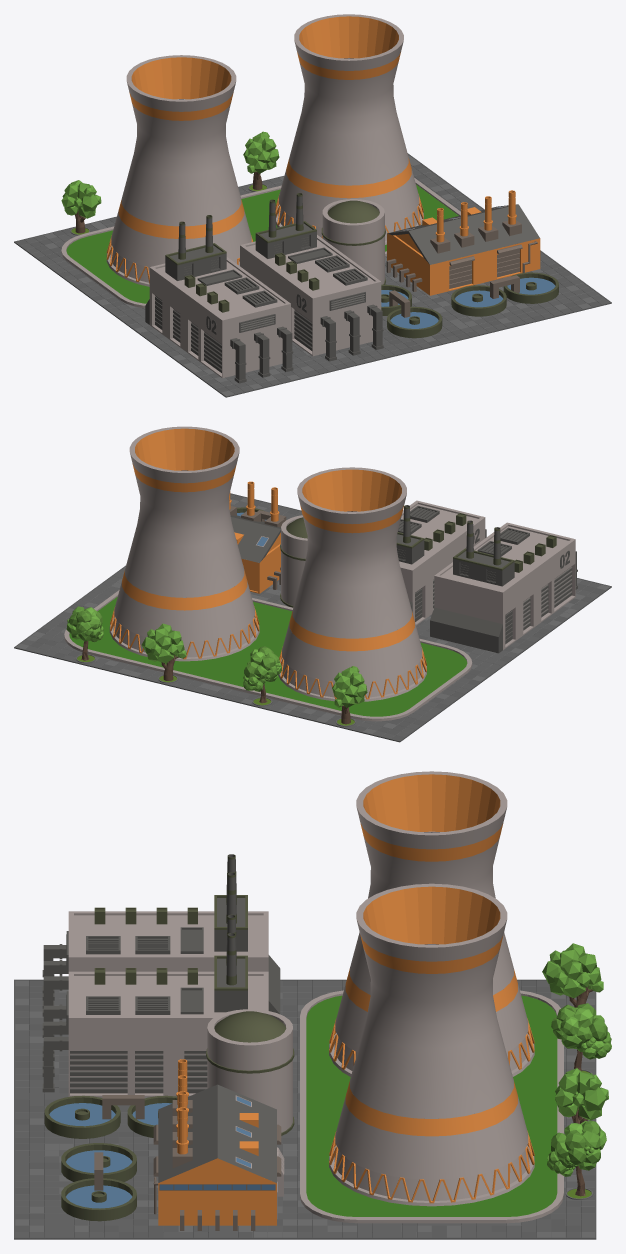
File: nuclearplant.glb
3 views of the same model, one above another, from view 1: azimuth 30°, elevation 25°; view 2: azimuth 150°, elevation 25°; view 3: azimuth 270°, elevation 25° (orthographic). The views are drawn at different scales.
Parts seen in each view (by area): view 1: lpc00100.002; view 2: lpc00100.002; view 3: lpc00100.002.
Part boxes in pixels (box(x1,y1,x2,y2)): lpc00100.002: box(14, 14, 611, 397); lpc00100.002: box(14, 426, 611, 742); lpc00100.002: box(14, 771, 611, 1239).
Bounding box in the file's own units: 8.68 × 3.91 × 8.48.
